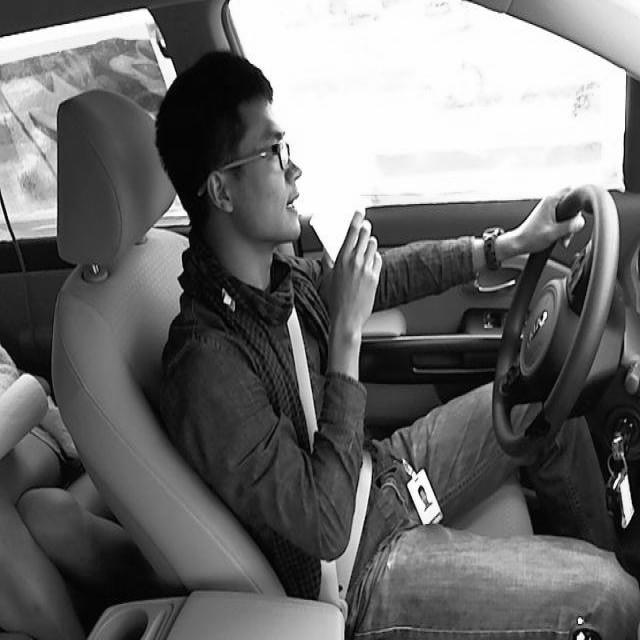Drinking: (312, 183, 370, 280)
